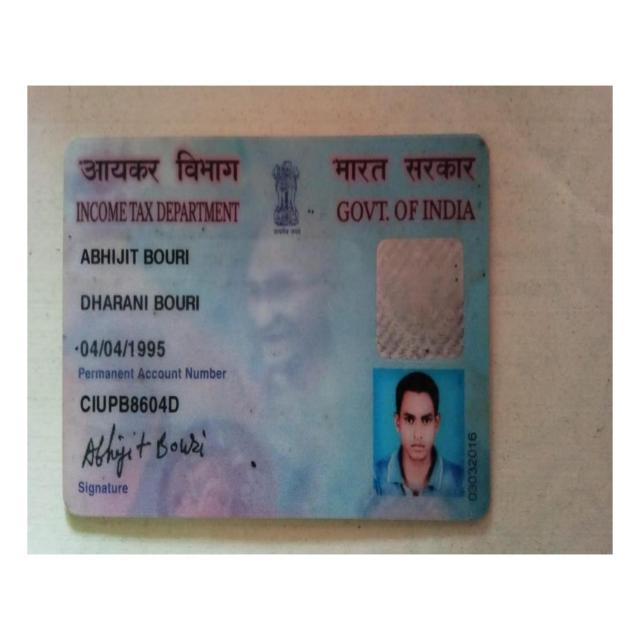pan_card: (66, 140, 486, 515)
